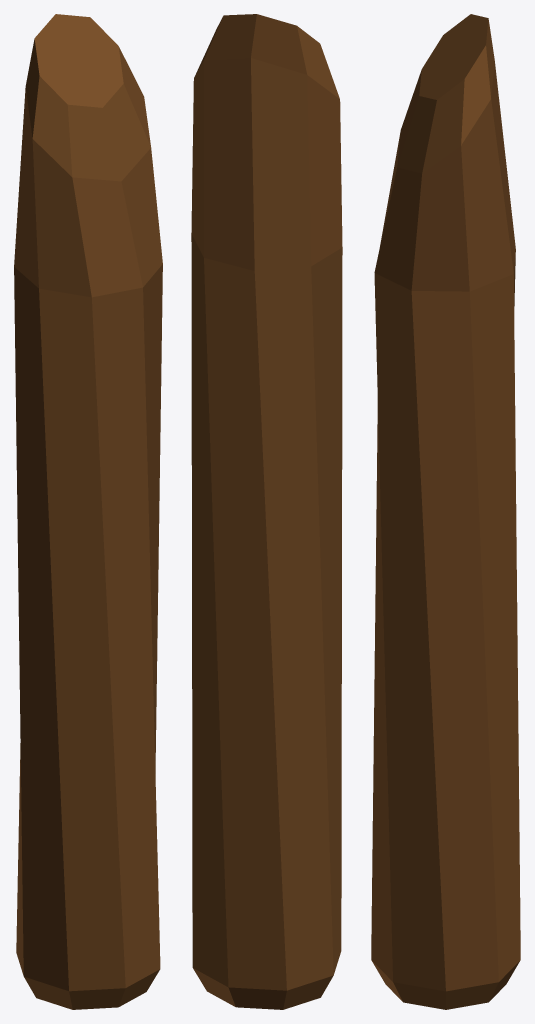
The model's file is E_B_FenceE.fbx.
3 renders of one model, left to right at view 1: azimuth 30°, elevation 25°; view 2: azimuth 150°, elevation 25°; view 3: azimuth 270°, elevation 25°, orthographic. The views are drawn at different scales.
Parts seen in each view (by area): view 1: E_B_FenceE; view 2: E_B_FenceE; view 3: E_B_FenceE.
Boxes of the visible parts, x1,y1,x2,y2 form: E_B_FenceE: (14, 14, 162, 1009); E_B_FenceE: (191, 14, 342, 1009); E_B_FenceE: (371, 14, 520, 1009).
Bounding box in the file's own units: 54.51 × 386 × 54.51.
